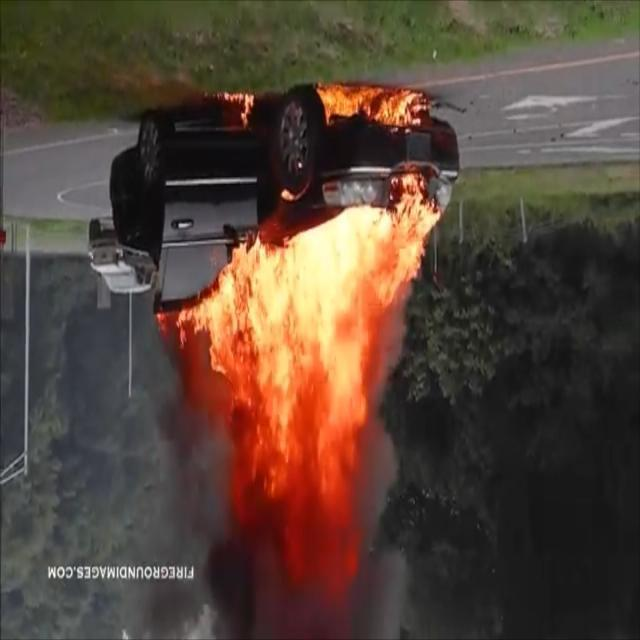fire: (142, 172, 442, 628), (210, 76, 426, 144)
